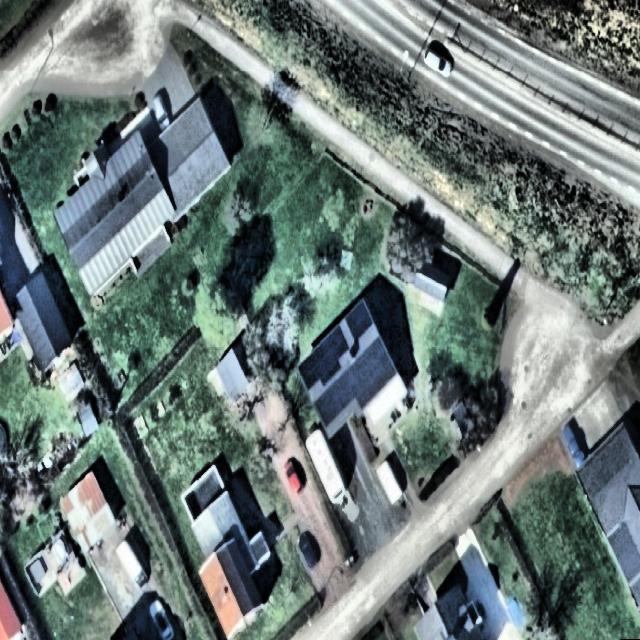roof_pv: (349, 334, 396, 414), (299, 326, 351, 387), (315, 374, 358, 427), (346, 296, 378, 345)
